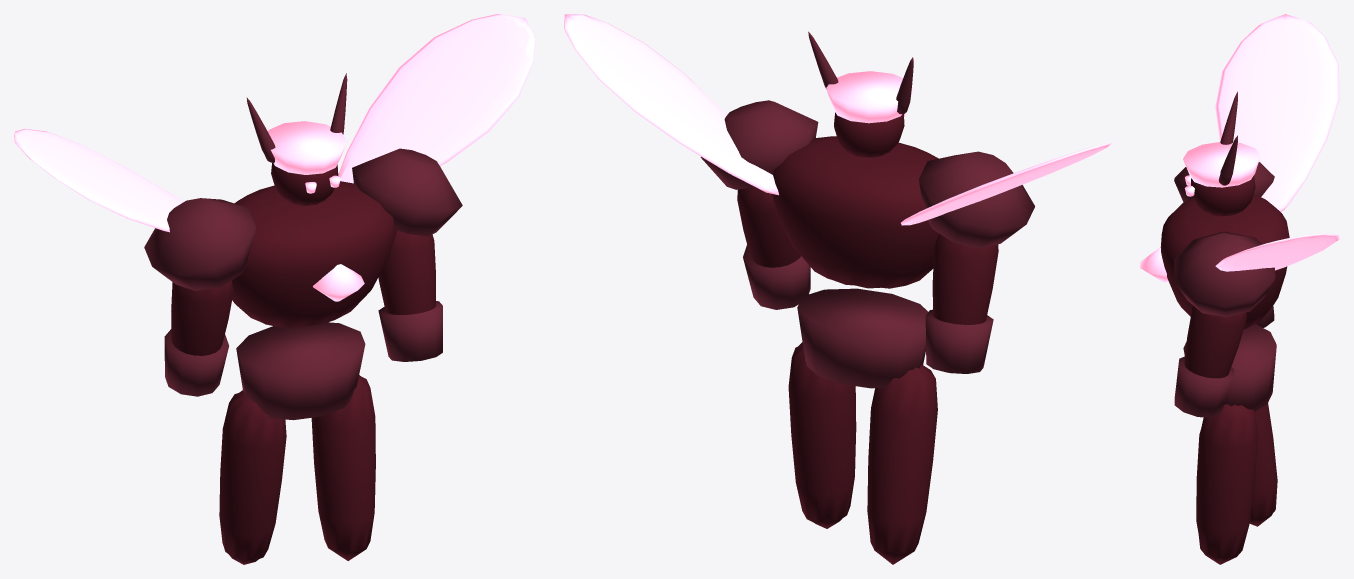
File: abyss_lord.glb
3 renders of one model, left to right at view 1: azimuth 30°, elevation 25°; view 2: azimuth 150°, elevation 25°; view 3: azimuth 270°, elevation 25°, orthographic. The views are drawn at different scales.
Visible parts, largest first — view 1: Wing_1, TorsoMass, PelvisArmor, Leg_LegL, Leg_LegR, Pauldron_-1, Wing_-1, Pauldron_1, Arm_ArmR, Arm_ArmL, Crown, Gauntlet_ArmR (+4 smaller); view 2: TorsoMass, Wing_1, Leg_LegL, PelvisArmor, Leg_LegR, Pauldron_-1, Pauldron_1, Arm_ArmL, Crown, Gauntlet_ArmL, Arm_ArmR, Wing_-1 (+2 smaller); view 3: Wing_-1, Leg_LegR, Pauldron_1, TorsoMass, Arm_ArmR, PelvisArmor, Wing_1, Crown, Leg_LegL, Gauntlet_ArmR, BossHead, Pauldron_-1 (+3 smaller).
Boxes of the visible parts, left/top/right/bottom form: Wing_1: left=338, top=14, right=535, bottom=183; TorsoMass: left=232, top=181, right=396, bottom=327; PelvisArmor: left=236, top=322, right=365, bottom=420; Leg_LegL: left=219, top=390, right=286, bottom=564; Leg_LegR: left=311, top=375, right=375, bottom=560; Pauldron_-1: left=144, top=198, right=256, bottom=290; Wing_-1: left=14, top=128, right=183, bottom=232; Pauldron_1: left=352, top=148, right=462, bottom=236; Arm_ArmR: left=378, top=230, right=435, bottom=314; Arm_ArmL: left=171, top=280, right=233, bottom=355; Crown: left=268, top=121, right=346, bottom=174; Gauntlet_ArmR: left=378, top=301, right=442, bottom=361; TorsoMass: left=772, top=136, right=939, bottom=288; Wing_1: left=564, top=14, right=778, bottom=195; Leg_LegL: left=867, top=364, right=937, bottom=564; PelvisArmor: left=797, top=288, right=927, bottom=388; Leg_LegR: left=788, top=342, right=856, bottom=528; Pauldron_-1: left=919, top=151, right=1034, bottom=248; Pauldron_1: left=700, top=100, right=818, bottom=189; Arm_ArmL: left=932, top=234, right=998, bottom=324; Crown: left=826, top=71, right=913, bottom=123; Gauntlet_ArmL: left=925, top=309, right=993, bottom=373; Arm_ArmR: left=737, top=187, right=800, bottom=267; Wing_-1: left=901, top=143, right=1111, bottom=225; Wing_-1: left=1215, top=14, right=1339, bottom=211; Leg_LegR: left=1196, top=404, right=1257, bottom=564; Pauldron_1: left=1174, top=231, right=1275, bottom=317; TorsoMass: left=1160, top=194, right=1289, bottom=328; Arm_ArmR: left=1184, top=305, right=1246, bottom=378; PelvisArmor: left=1183, top=324, right=1276, bottom=411; Wing_1: left=1215, top=234, right=1339, bottom=271; Crown: left=1183, top=142, right=1260, bottom=187; Leg_LegL: left=1249, top=403, right=1277, bottom=526; Gauntlet_ArmR: left=1174, top=356, right=1234, bottom=417; BossHead: left=1191, top=176, right=1255, bottom=216; Pauldron_-1: left=1174, top=162, right=1274, bottom=202.
Size of the model in its own units: 3.42 by 3.07 by 1.28.
Materials: 3 (3 with a texture image).
